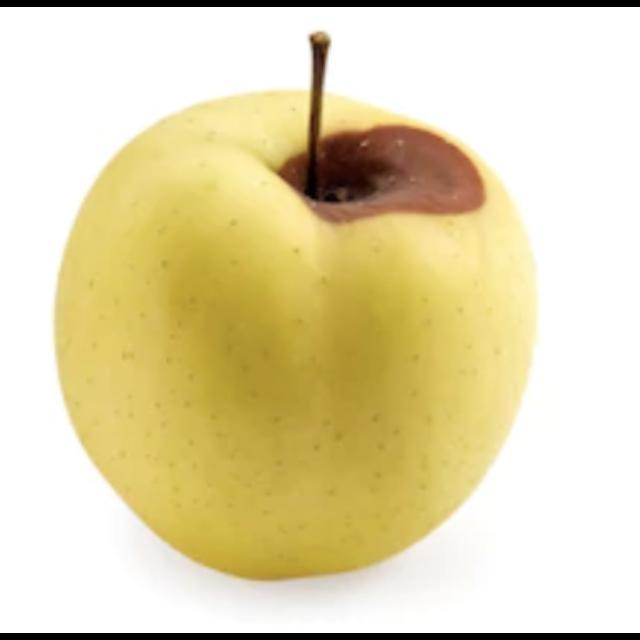Apel Tidak Segar: (17, 20, 579, 610)
